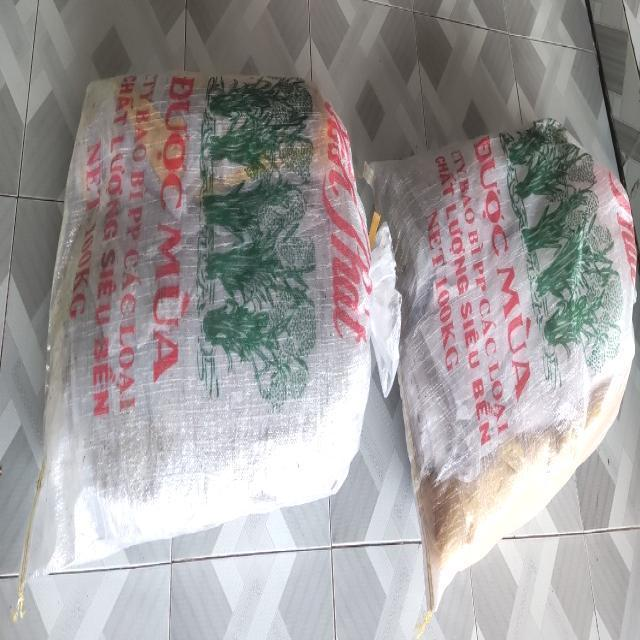gunny_bag: (23, 70, 372, 576), (366, 118, 637, 609)
